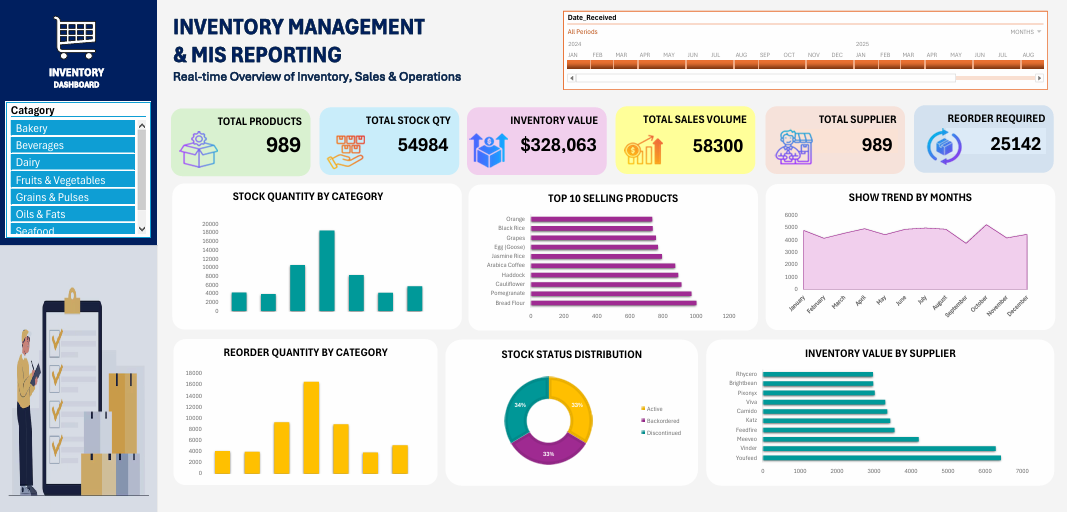

This screenshot's page, from the dashboard's own definition file:
{"tool":"powerbi","page":{"name":"Page 1","canvas":[1280,720],"ordinal":0},"visuals":[{"type":"shape","box":[0,0,1279.8,86.5],"z":0},{"type":"shape","box":[742.7,99.2,243.8,126.1],"z":1000},{"type":"shape","box":[1009.6,99.1,243.6,126],"z":2000},{"type":"shape","box":[216.9,243.8,510.2,223.9],"z":3000},{"type":"shape","box":[742.7,243.8,510.2,457.8],"z":4000},{"type":"shape","box":[483.3,99.2,243.8,126.1],"z":5000},{"type":"shape","box":[216.9,97.8,243.8,126.1],"z":6000},{"type":"shape","box":[216.9,480.5,510.2,221.1],"z":7000},{"type":"textbox","box":[5.7,9.9,840.5,68],"z":8000},{"type":"cardVisual","fields":{"Data":["cleaned_data.Total Products"]},"box":[217.1,97.1,244.3,125.7],"z":9000},{"type":"cardVisual","fields":{"Data":["cleaned_data.Total Inventory Value"]},"box":[482.9,100,244.3,124.3],"z":10000},{"type":"cardVisual","fields":{"Data":["cleaned_data.Total Stock Quantity"]},"box":[741.4,100,244.3,124.3],"z":11000},{"type":"cardVisual","fields":{"Data":["cleaned_data.Average Sales Volume"]},"box":[1010,98.6,242.9,124.3],"z":12000},{"type":"areaChart","title":"INVENTORY VALUE BY MONTH","fields":{"Category":["cleaned_data.Month_Recieved"],"Y":["Sum(cleaned_data.Inventory Value)"]},"box":[223.9,487.6,496.1,207],"z":13000},{"type":"clusteredBarChart","title":"INVENTORY VALUE BY CATEGORY","fields":{"Y":["Sum(cleaned_data.Inventory Value)"],"Category":["cleaned_data.Catagory"]},"box":[749.8,250.9,496.1,443.6],"z":14000},{"type":"donutChart","title":"CATEGORY BY STATUS","fields":{"Y":["CountNonNull(cleaned_data.Catagory)"],"Category":["cleaned_data.Status"]},"box":[223.9,250.9,496,209.8],"z":15000},{"type":"slicer","fields":{"Values":["cleaned_data.Date_Received"]},"box":[997.8,5.7,255.1,68],"z":16000},{"type":"image","box":[5.7,5.7,79.4,76.5],"z":19000},{"type":"pageNavigator","box":[0,473.4,201.3,221.1],"z":20000},{"type":"textbox","box":[28.3,487.6,113.4,36.9],"z":21000},{"type":"textbox","box":[28.3,552.8,124.7,68],"z":22000},{"type":"textbox","box":[24.1,626.5,153.1,68],"z":23000},{"type":"image","box":[0,100.6,201.3,360],"z":24000},{"type":"image","box":[377.1,132.9,67.1,55.7],"z":27000},{"type":"image","box":[645.7,134.3,67.1,55.7],"z":28000},{"type":"image","box":[907.1,132.9,67.1,55.7],"z":29000},{"type":"image","box":[1171.4,132.9,67.1,55.7],"z":30000}]}

Visuals, with their boxes on the page's 1280x720 design canvas (x1, y1, x2, y2). These are canvas units, not pixel positions in the 1070x512 screenshot, which may show the page scaled, cropped or inside an application window:
shape: [0, 0, 1280, 86]
shape: [743, 99, 986, 225]
shape: [1010, 99, 1253, 225]
shape: [217, 244, 727, 468]
shape: [743, 244, 1253, 702]
shape: [483, 99, 727, 225]
shape: [217, 98, 461, 224]
shape: [217, 480, 727, 702]
textbox: [6, 10, 846, 78]
cardVisual - cleaned_data.Total Products: [217, 97, 461, 223]
cardVisual - cleaned_data.Total Inventory Value: [483, 100, 727, 224]
cardVisual - cleaned_data.Total Stock Quantity: [741, 100, 986, 224]
cardVisual - cleaned_data.Average Sales Volume: [1010, 99, 1253, 223]
"INVENTORY VALUE BY MONTH" areaChart: [224, 488, 720, 695]
"INVENTORY VALUE BY CATEGORY" clusteredBarChart: [750, 251, 1246, 694]
"CATEGORY BY STATUS" donutChart: [224, 251, 720, 461]
slicer - cleaned_data.Date_Received: [998, 6, 1253, 74]
image: [6, 6, 85, 82]
pageNavigator: [0, 473, 201, 694]
textbox: [28, 488, 142, 524]
textbox: [28, 553, 153, 621]
textbox: [24, 626, 177, 694]
image: [0, 101, 201, 461]
image: [377, 133, 444, 189]
image: [646, 134, 713, 190]
image: [907, 133, 974, 189]
image: [1171, 133, 1238, 189]
